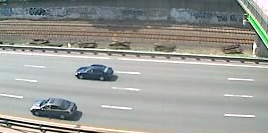car: (28, 94, 78, 120), (73, 62, 115, 83)
